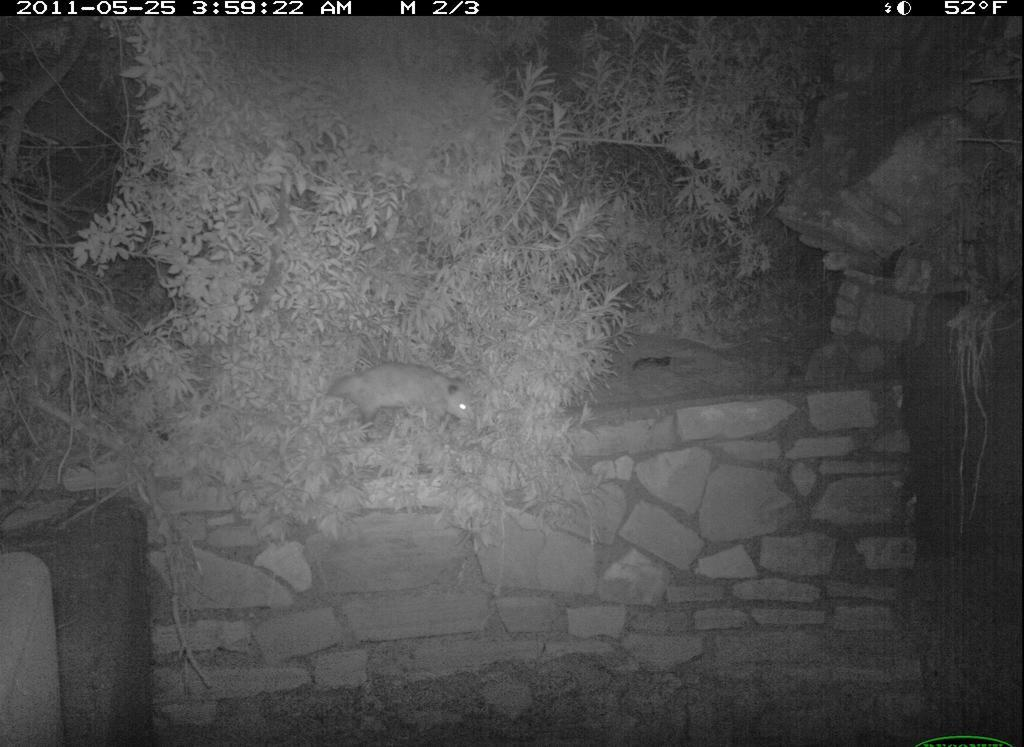opossum: (301, 363, 504, 460)
